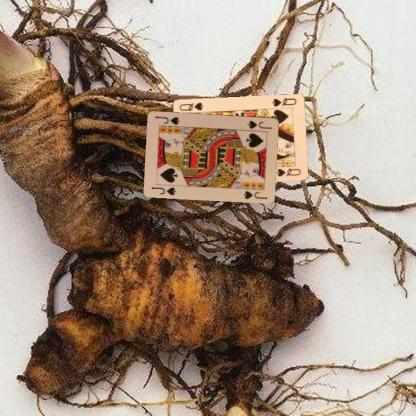Js: (245, 118, 273, 130), (149, 184, 177, 196)
Qs: (269, 95, 298, 108)
